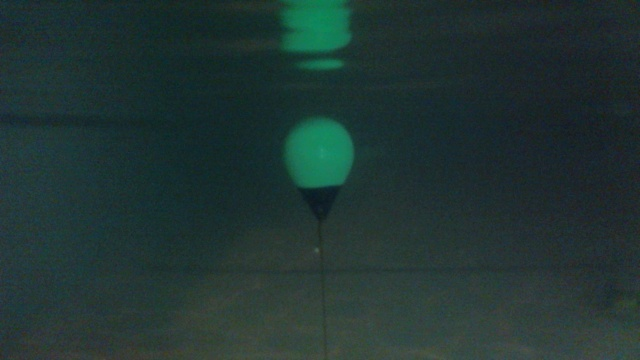buoy_green: (276, 112, 363, 221)
